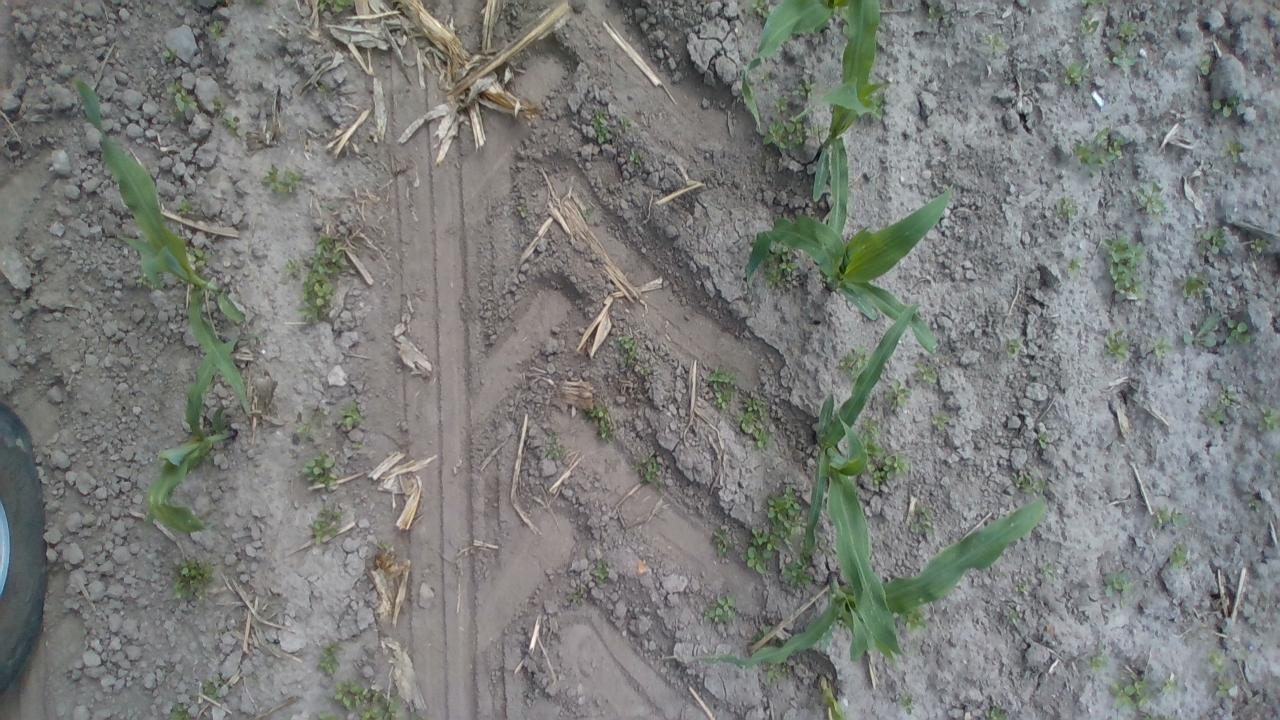Maize: (66, 74, 254, 422), (678, 496, 1048, 668), (800, 302, 921, 665), (744, 182, 959, 356), (145, 335, 238, 536), (812, 1, 884, 247), (739, 1, 846, 136)
Weeds: (739, 485, 816, 596), (283, 234, 342, 325), (856, 417, 914, 487), (322, 682, 404, 720), (1107, 234, 1144, 298), (758, 108, 814, 150), (1071, 126, 1125, 168), (734, 398, 774, 450), (759, 236, 797, 290), (1110, 676, 1170, 708), (170, 558, 212, 601), (617, 334, 658, 377), (588, 108, 631, 148), (1202, 385, 1238, 431), (755, 59, 787, 110), (698, 590, 738, 630), (259, 164, 310, 194), (702, 366, 734, 410), (1180, 312, 1223, 343), (209, 96, 241, 137), (1134, 180, 1168, 218), (301, 456, 337, 488), (164, 81, 195, 118), (1008, 470, 1046, 499), (1176, 268, 1209, 300), (839, 344, 872, 374), (310, 513, 339, 545), (1050, 197, 1082, 225), (1154, 506, 1191, 530), (916, 353, 940, 388), (182, 244, 208, 275), (1110, 46, 1138, 74), (882, 381, 911, 408), (337, 402, 362, 433), (789, 74, 818, 100), (910, 510, 936, 538), (1004, 335, 1030, 363), (590, 406, 610, 442), (709, 527, 732, 558), (544, 430, 566, 462), (1064, 62, 1092, 86), (1103, 573, 1131, 596), (1106, 330, 1128, 359), (316, 0, 358, 15), (1226, 322, 1252, 346), (1255, 406, 1278, 433), (751, 622, 780, 642), (1167, 548, 1191, 572), (894, 692, 918, 716), (1205, 647, 1227, 673), (1085, 654, 1111, 676), (986, 30, 1008, 56), (640, 456, 659, 484), (1034, 560, 1058, 582), (201, 19, 223, 42), (1213, 98, 1235, 120), (1213, 678, 1236, 698), (1146, 339, 1170, 358), (322, 646, 338, 674), (748, 1, 771, 20), (1066, 257, 1085, 279), (1117, 19, 1136, 41), (1202, 224, 1220, 247), (1224, 143, 1242, 165), (926, 4, 946, 23), (1080, 16, 1099, 36), (622, 152, 639, 174), (1007, 604, 1026, 623), (766, 666, 784, 686), (592, 562, 610, 581), (982, 706, 1006, 720), (200, 681, 219, 698), (169, 702, 186, 720), (156, 48, 172, 66), (933, 415, 948, 434), (1199, 58, 1213, 76), (514, 204, 526, 224), (564, 592, 578, 608), (1038, 430, 1050, 447), (1011, 582, 1025, 596), (176, 198, 190, 212)
